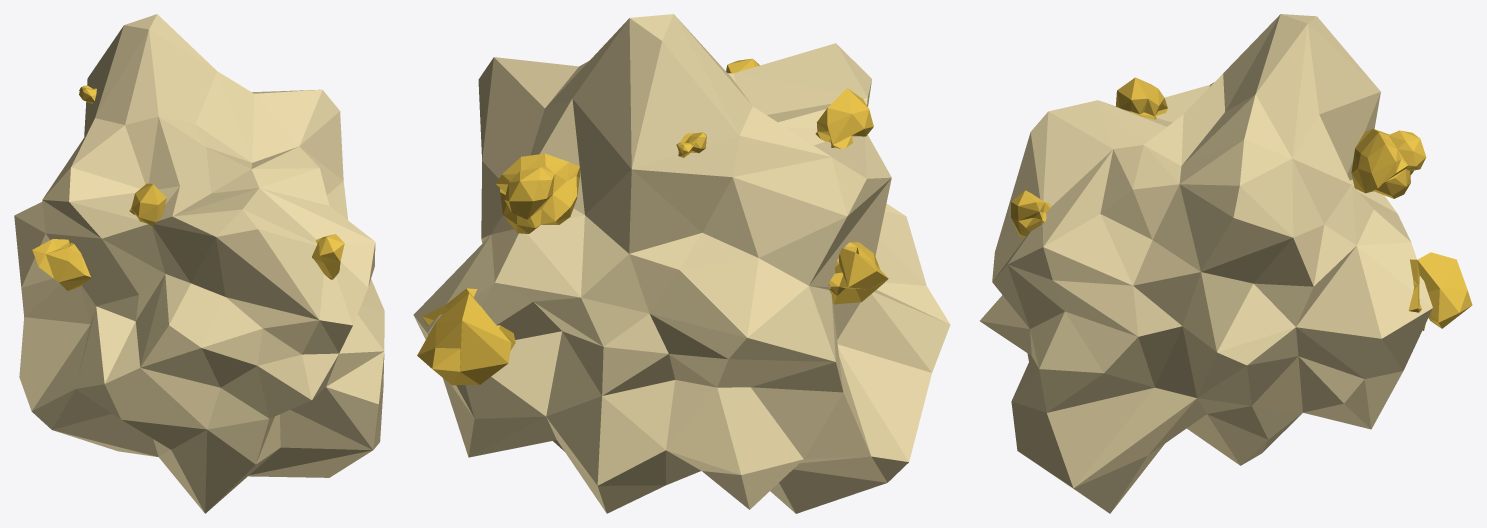
Rendered from MetalOre (21).fbx.
The picture shows the model from 3 angles, left to right: view 1: azimuth 30°, elevation 25°; view 2: azimuth 150°, elevation 25°; view 3: azimuth 270°, elevation 25°; orthographic projection. The views are drawn at different scales.
Parts seen in each view (by area): view 1: Asteroid376; view 2: Asteroid376; view 3: Asteroid376.
Part boxes in pixels (x1,y1,x2,y2): Asteroid376: (14,14,384,513); Asteroid376: (413,14,950,513); Asteroid376: (980,14,1472,513).
Size of the model in its own units: 347 by 439 by 435.
